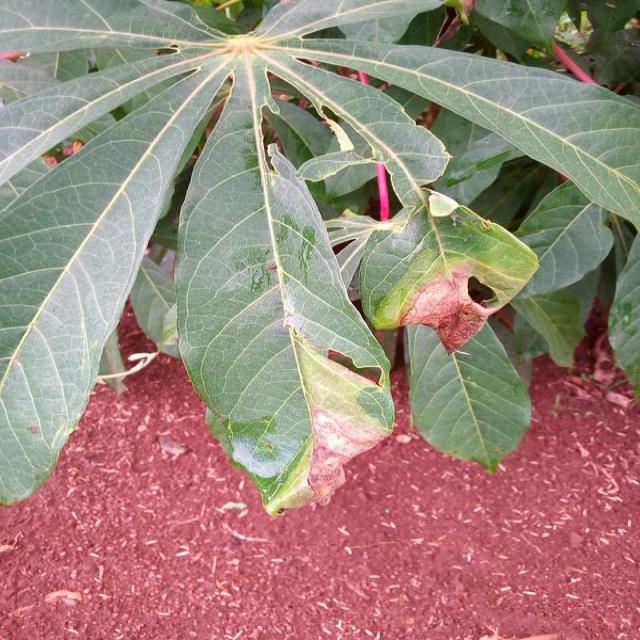cassava leaf: (0, 0, 638, 516), (173, 50, 395, 516)
